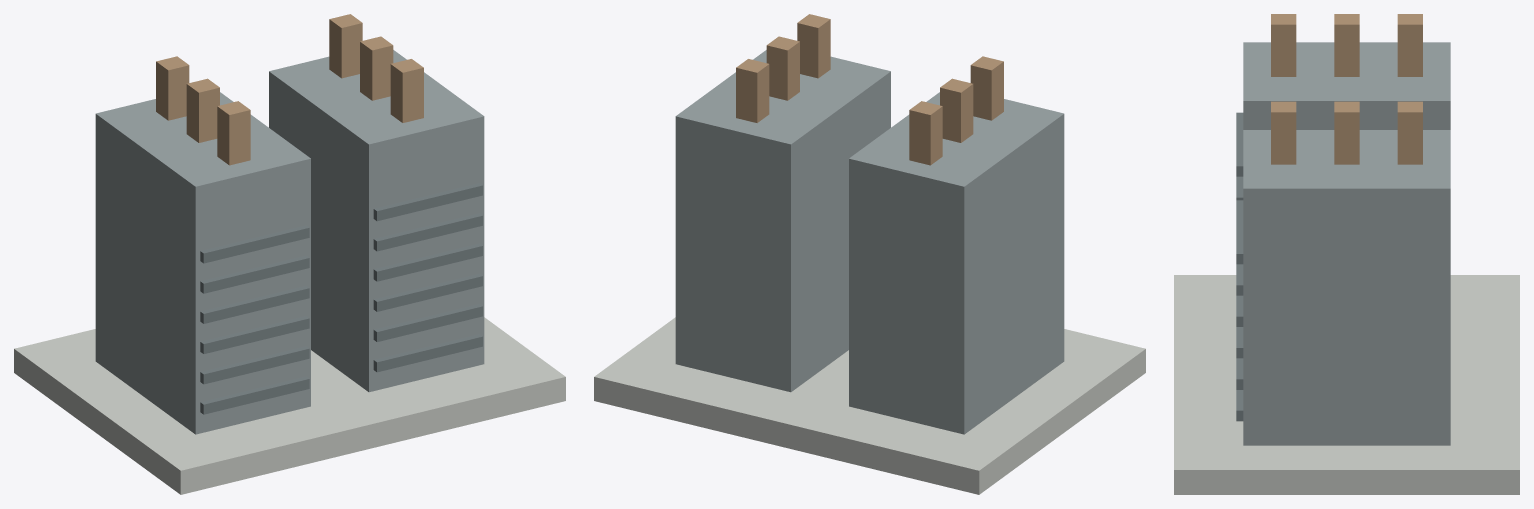
3 renders of one model, left to right at view 1: azimuth 30°, elevation 25°; view 2: azimuth 150°, elevation 25°; view 3: azimuth 270°, elevation 25°, orthographic. The views are drawn at different scales.
Size of the model in its own units: 4 by 3.2 by 3.
